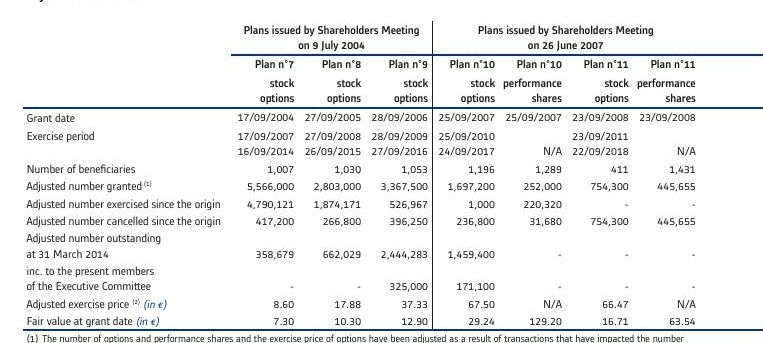table: (0, 0, 763, 343)
